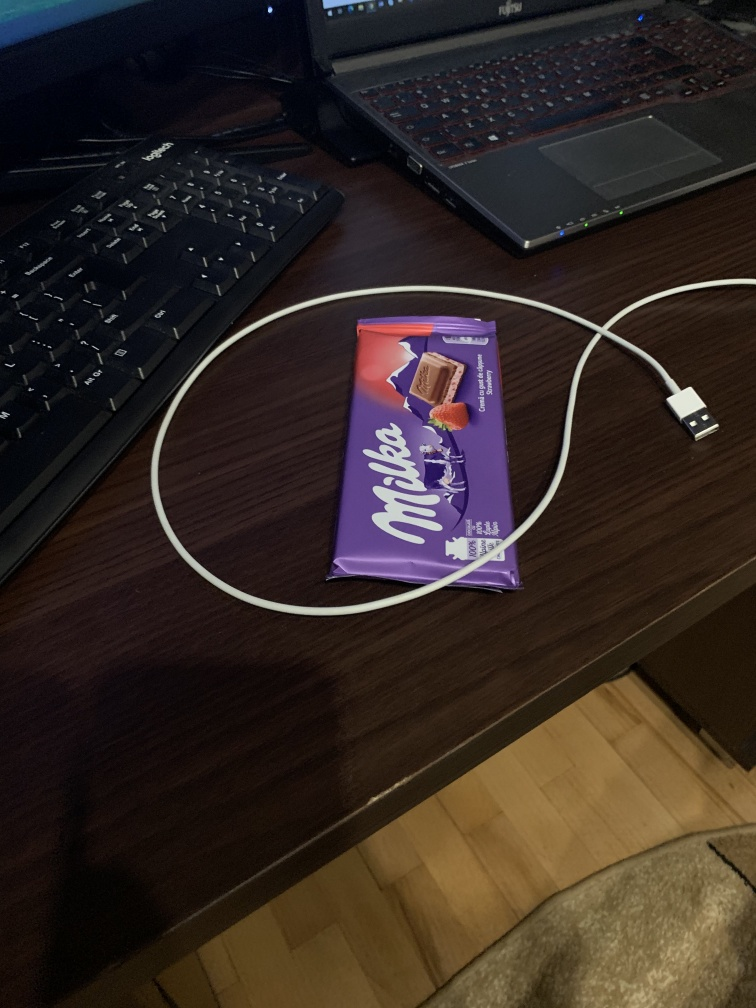milka: (316, 304, 535, 603)
